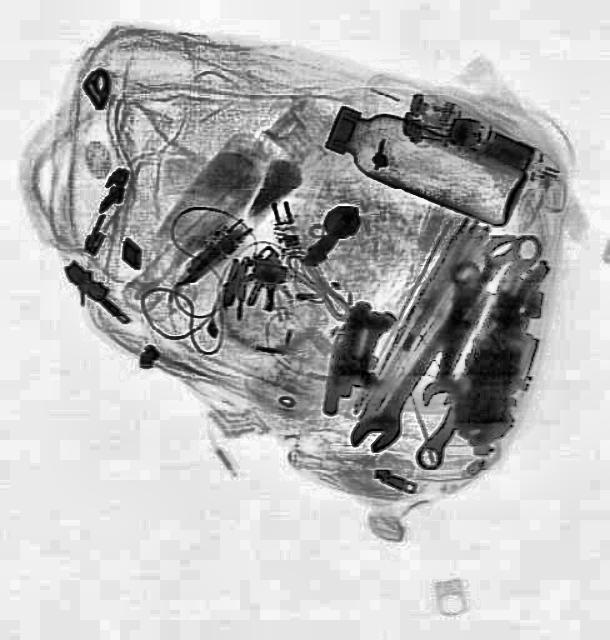Wrench: (342, 224, 530, 460), (419, 257, 485, 409)
